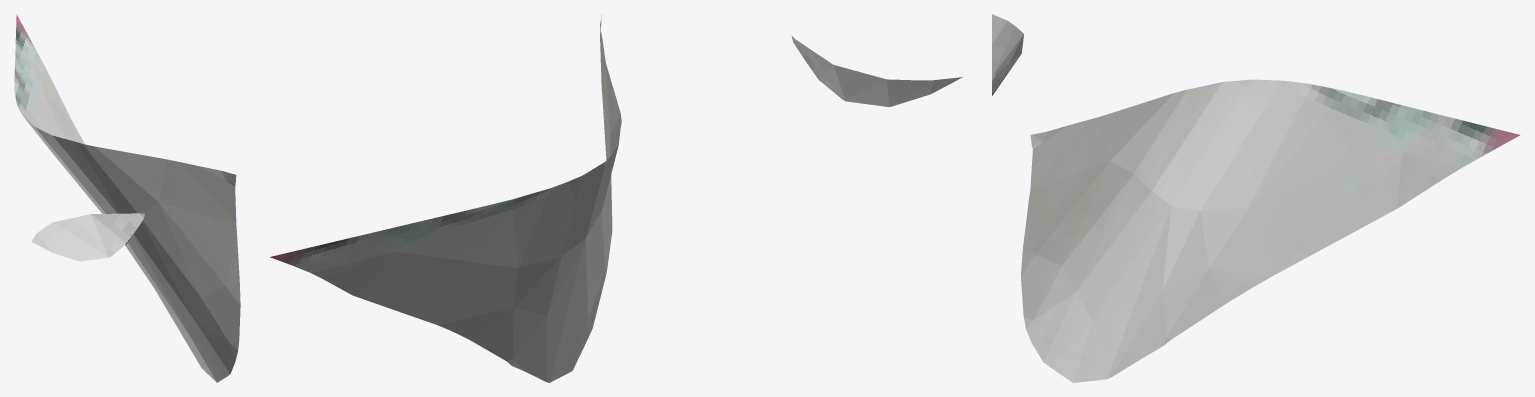
The picture shows the model from 3 angles, left to right: view 1: azimuth 30°, elevation 25°; view 2: azimuth 150°, elevation 25°; view 3: azimuth 270°, elevation 25°; orthographic projection. The views are drawn at different scales.
Size of the model in its own units: 22.46 by 21.44 by 41.44.
Materials: 1 (1 with a texture image).
